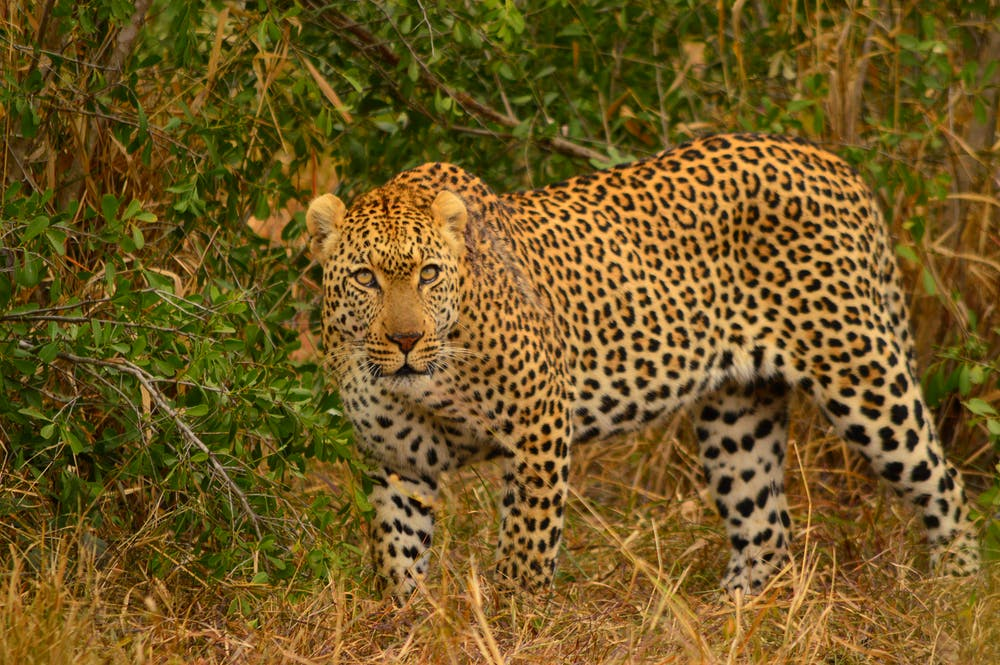cheetah: (279, 170, 501, 391)
